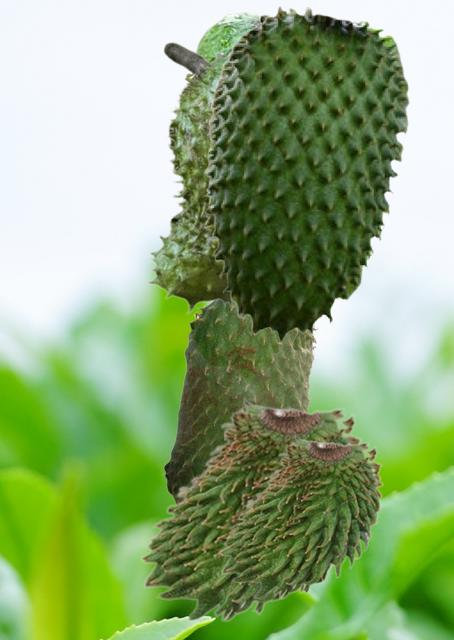guyabano: (204, 5, 409, 342), (139, 396, 363, 621), (162, 301, 317, 502), (218, 433, 383, 598), (145, 41, 234, 314), (195, 11, 323, 58)
